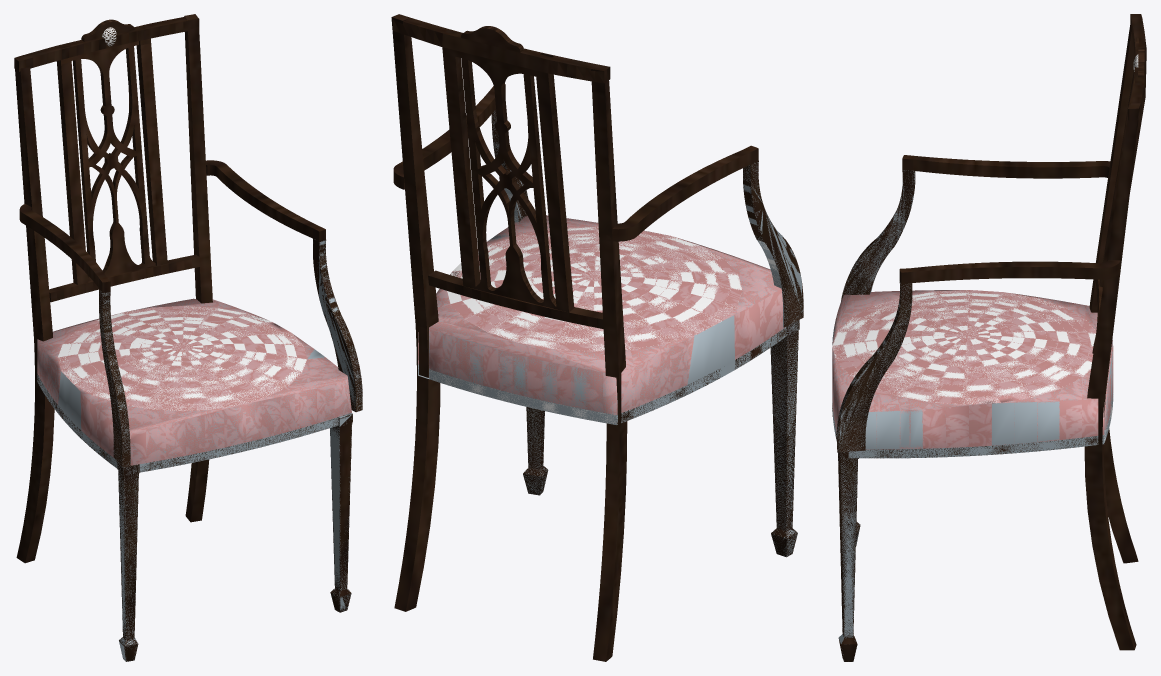
The model's file is prop_chair_armed.fbx.
3 views of the same model, side by side, from view 1: azimuth 30°, elevation 25°; view 2: azimuth 150°, elevation 25°; view 3: azimuth 270°, elevation 25° (orthographic). The views are drawn at different scales.
Visible parts, largest first — view 1: Group8, Group9, Group10, Group11, Group13, Group12, Group3, Group6, Group4, Group7; view 2: Group8, Group9, Group11, Group10, Group12, Group6, Group7, Group13, Group4, Group3; view 3: Group8, Group11, Group10, Group3, Group4, Group7, Group13, Group6, Group9.
Boxes of the visible parts, left/top/right/bottom form: Group8: left=37, top=27, right=351, bottom=472; Group9: left=14, top=17, right=200, bottom=302; Group10: left=15, top=67, right=54, bottom=563; Group11: left=184, top=14, right=212, bottom=522; Group13: left=330, top=413, right=352, bottom=612; Group12: left=117, top=462, right=139, bottom=661; Group3: left=313, top=239, right=362, bottom=412; Group6: left=99, top=289, right=130, bottom=467; Group4: left=206, top=160, right=325, bottom=241; Group7: left=19, top=204, right=110, bottom=292; Group8: left=418, top=215, right=786, bottom=424; Group9: left=392, top=14, right=610, bottom=328; Group11: left=391, top=14, right=440, bottom=611; Group10: left=591, top=68, right=627, bottom=661; Group12: left=770, top=320, right=799, bottom=557; Group6: left=743, top=161, right=803, bottom=327; Group7: left=606, top=145, right=758, bottom=241; Group13: left=523, top=407, right=548, bottom=495; Group4: left=393, top=84, right=505, bottom=189; Group3: left=491, top=97, right=528, bottom=222; Group8: left=832, top=54, right=1138, bottom=458; Group11: left=1084, top=103, right=1140, bottom=650; Group10: left=1089, top=17, right=1142, bottom=563; Group3: left=837, top=281, right=912, bottom=452; Group4: left=899, top=260, right=1120, bottom=283; Group7: left=902, top=155, right=1110, bottom=178; Group13: left=837, top=450, right=858, bottom=661; Group6: left=841, top=170, right=915, bottom=300; Group9: left=1092, top=14, right=1146, bottom=353.
Size of the model in its own units: 0.48 by 0.9864 by 0.5036.
